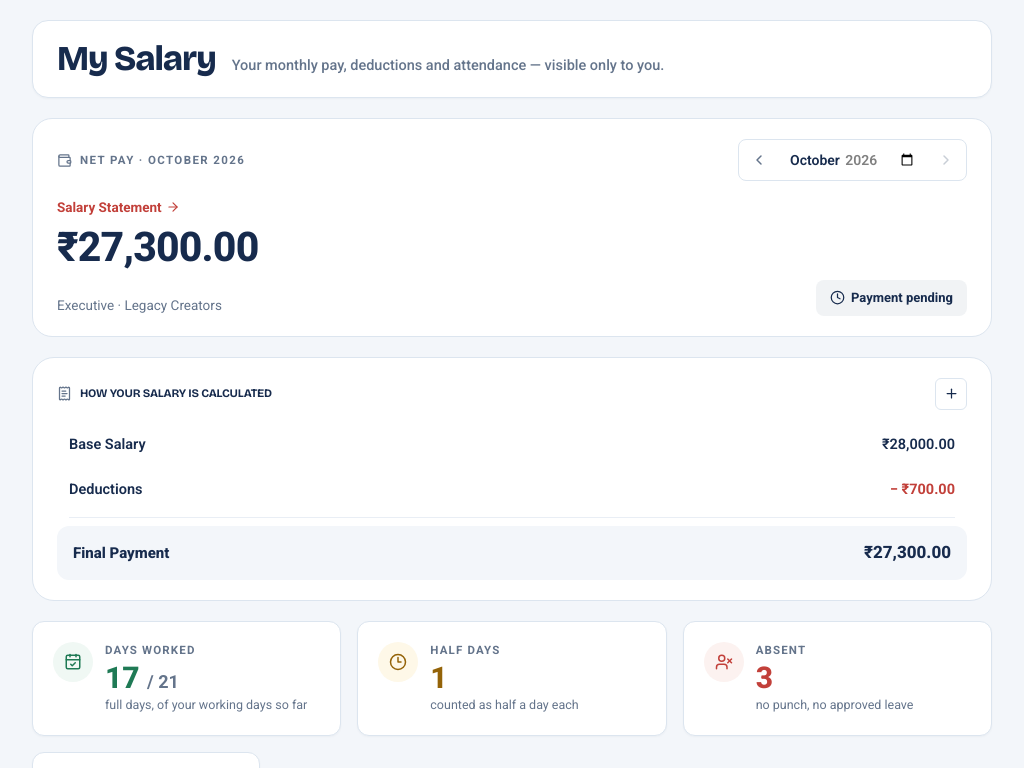
My Salary page › the breakdown card is collapsed to Base Salary / Deductions (red total) / Final Payment, and the + button reveals the itemised deductions and the figures behind
Check: the text with test id "base-salary" reads "₹28,000.00", box 882,436 -> 955,453
Check: the text with test id "deductions-total" reads "− ₹700.00", box 890,481 -> 955,498
Click the button named "Show calculation details".
click(951, 394)  # box 935,378 -> 967,410
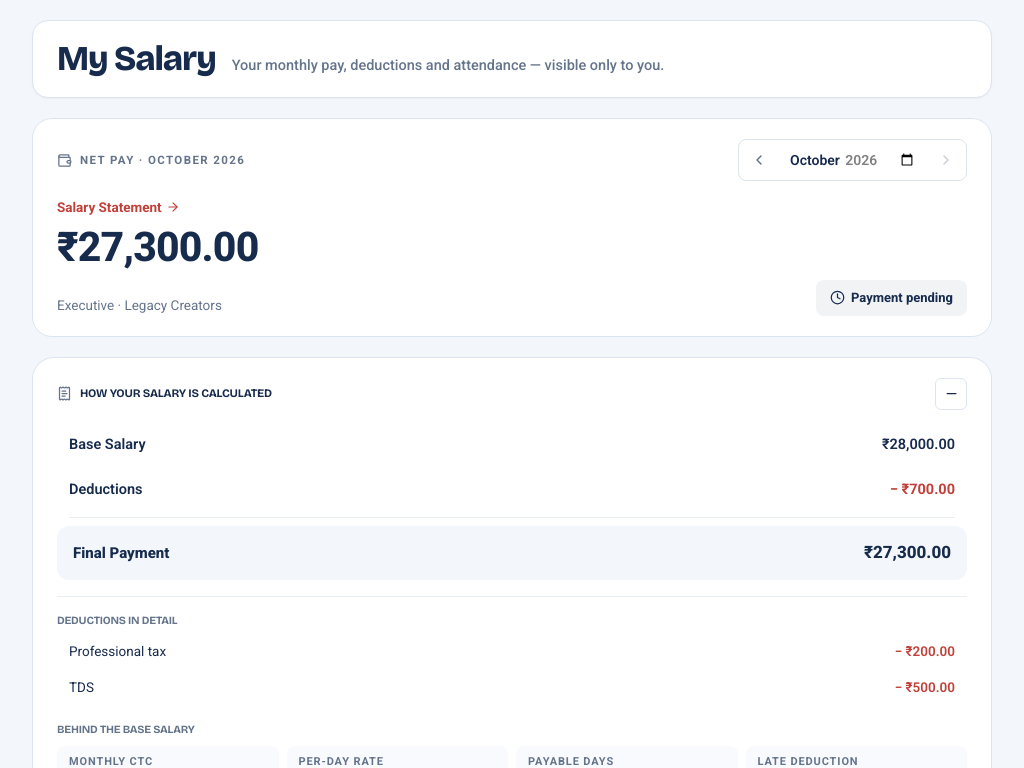
Check: the text "− ₹200.00" is shown, box 895,641 -> 955,662
Check: the text "− ₹500.00" is shown, box 895,677 -> 955,698
Check: the text "Per-day rate" is shown, box 298,755 -> 384,767
Click the button named "Hide calculation details".
click(951, 394)  # box 935,378 -> 967,410
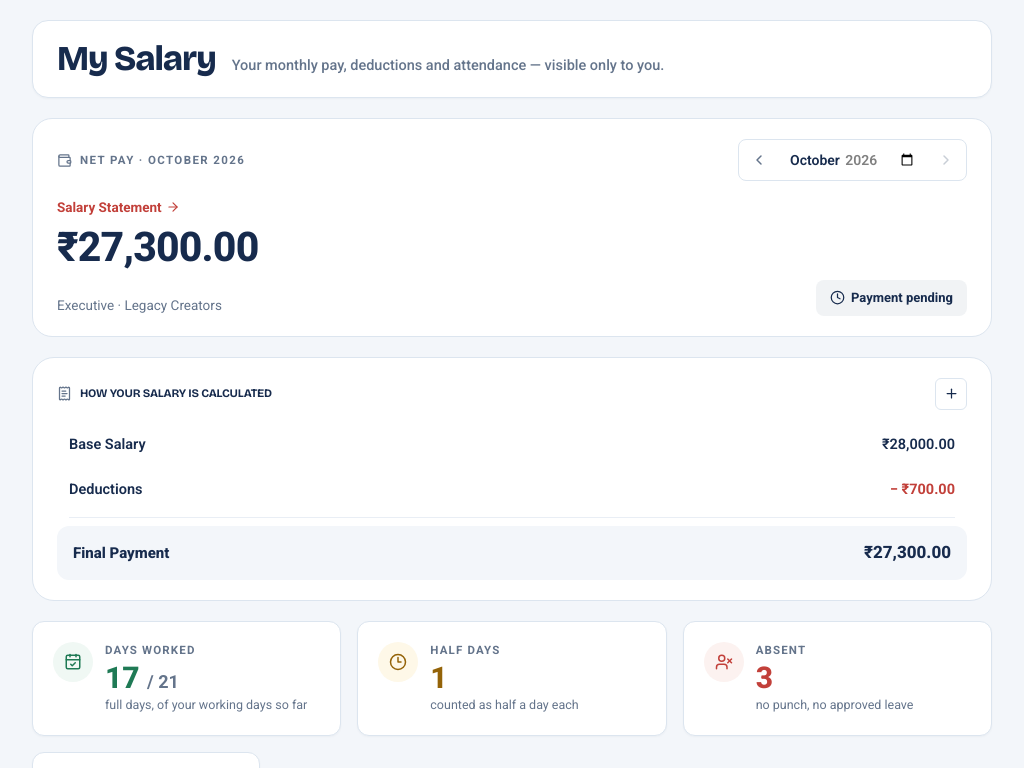
Check: the text "Professional tax" is gone
